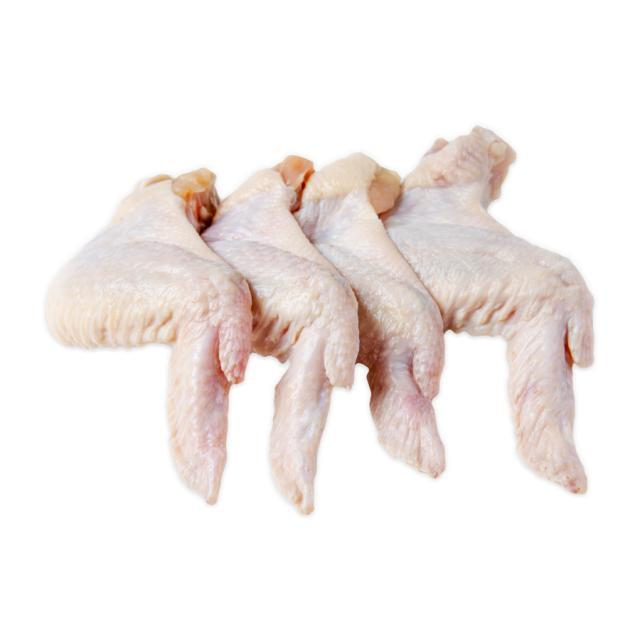wing: (411, 114, 586, 493), (51, 165, 242, 506), (200, 145, 344, 508), (304, 142, 444, 479)
